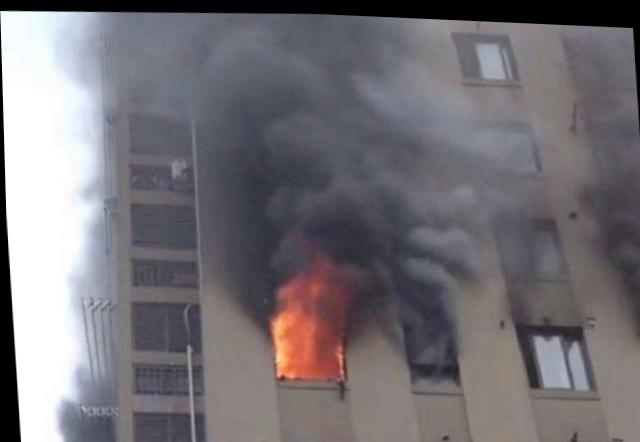fire: (255, 257, 348, 381)
